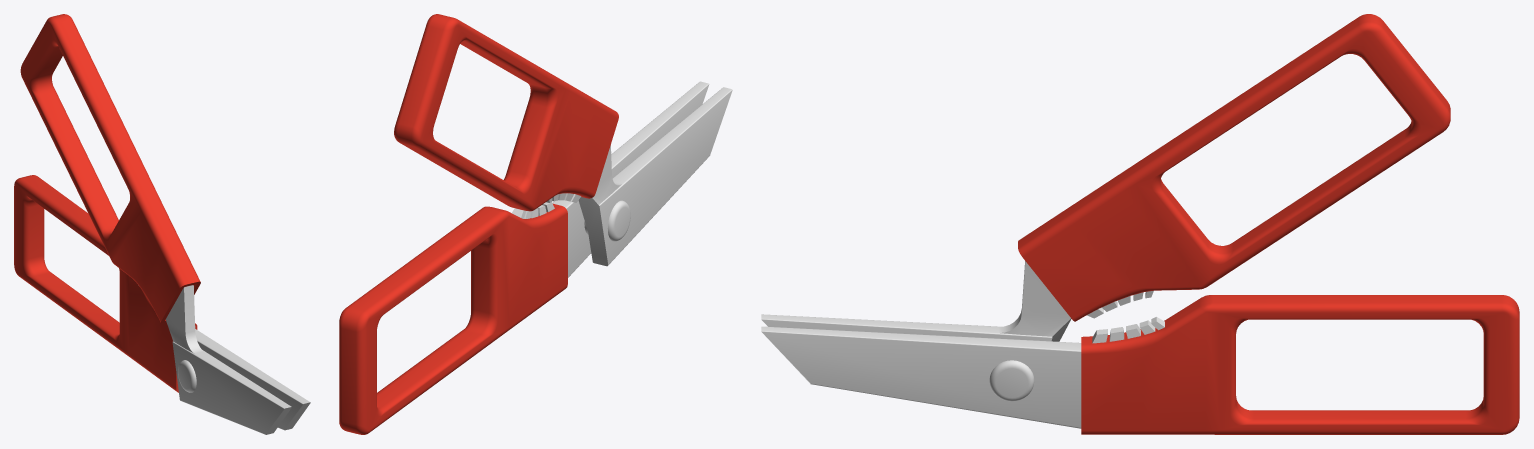
Rendered from istakozMakas.fbx.
The picture shows the model from 3 angles, left to right: view 1: azimuth 30°, elevation 25°; view 2: azimuth 150°, elevation 25°; view 3: azimuth 270°, elevation 25°; orthographic projection. The views are drawn at different scales.
Visible parts, largest first — view 1: makasUst, makasAlt; view 2: makasUst, makasAlt; view 3: makasAlt, makasUst.
Boxes of the visible parts, x1,y1,x2,y2 form: makasUst: (20, 14, 291, 434); makasAlt: (14, 175, 310, 430); makasUst: (394, 14, 732, 266); makasAlt: (339, 81, 709, 434); makasAlt: (761, 295, 1519, 434); makasUst: (761, 14, 1450, 341).
Size of the model in its own units: 6.88 by 49.59 by 85.21.
